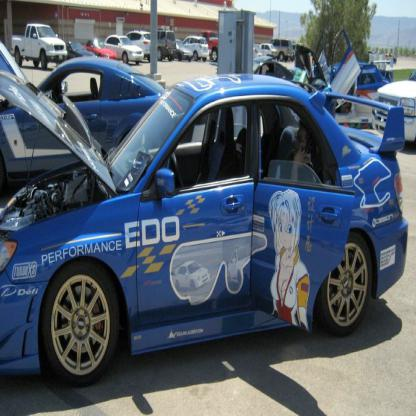Car: (0, 23, 415, 389)
Truck: (11, 23, 67, 69)
